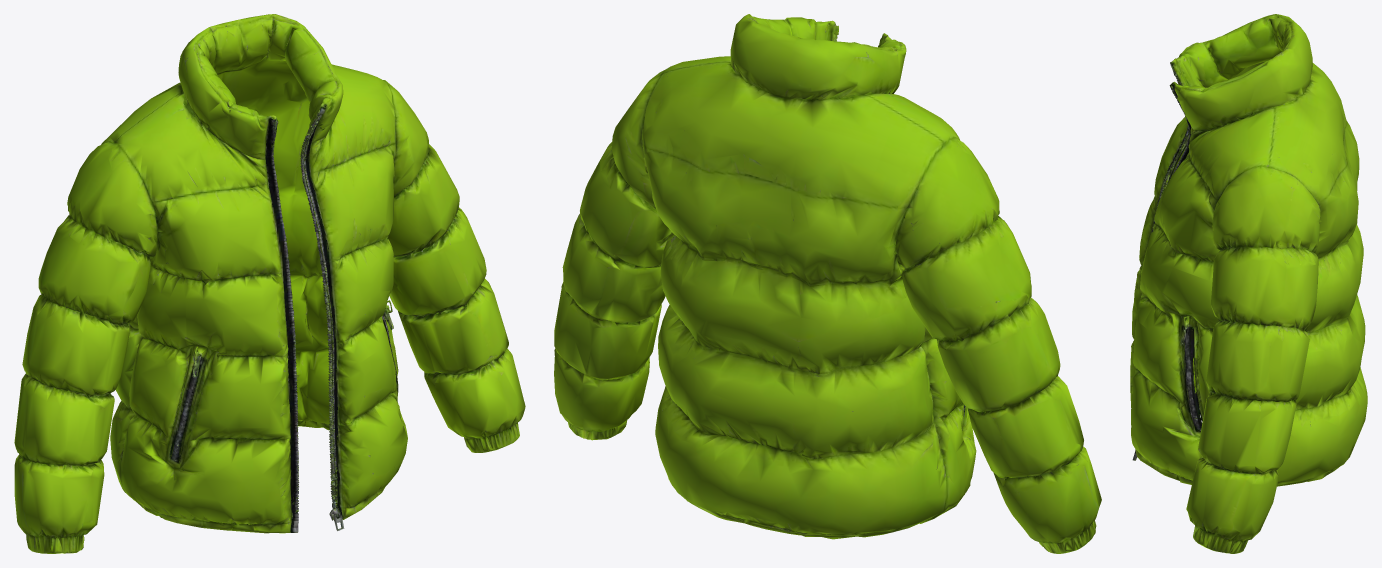
Rendered from green.glb.
3 views of the same model, side by side, from view 1: azimuth 30°, elevation 25°; view 2: azimuth 150°, elevation 25°; view 3: azimuth 270°, elevation 25° (orthographic). The views are drawn at different scales.
Visible parts, largest first — view 1: mesh_node; view 2: mesh_node; view 3: mesh_node.
Part boxes in pixels (x1,y1,x2,y2): mesh_node: (14, 14, 525, 553); mesh_node: (554, 14, 1101, 553); mesh_node: (1130, 14, 1367, 553).
Size of the model in its own units: 1.9 by 1.66 by 0.8509.
Materials: 1 (1 with a texture image).
